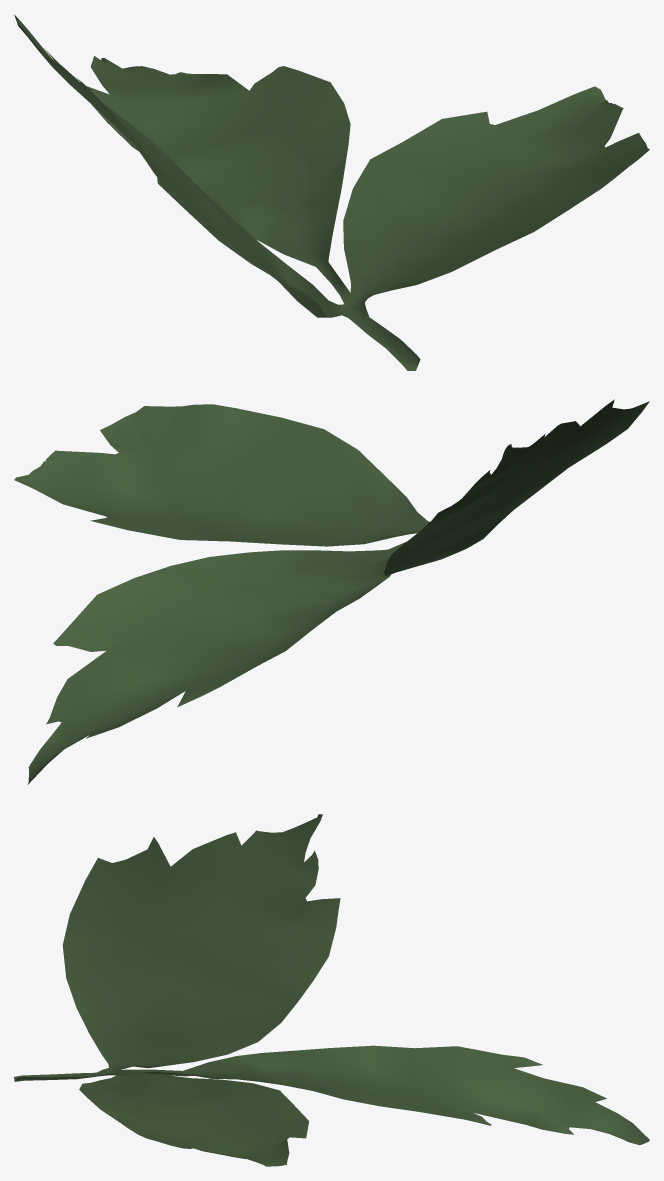
Rendered from trees-leaves-leaf-cluster_v3.glb.
3 renders of one model, top to bottom at view 1: azimuth 30°, elevation 25°; view 2: azimuth 150°, elevation 25°; view 3: azimuth 270°, elevation 25°, orthographic. The views are drawn at different scales.
Parts seen in each view (by area): view 1: Leaf Cluster_v3; view 2: Leaf Cluster_v3; view 3: Leaf Cluster_v3.
Boxes of the visible parts, x1,y1,x2,y2 form: Leaf Cluster_v3: [14, 14, 649, 370]; Leaf Cluster_v3: [14, 399, 649, 784]; Leaf Cluster_v3: [14, 814, 649, 1166].
Size of the model in its own units: 0.1163 by 0.0565 by 0.15.
